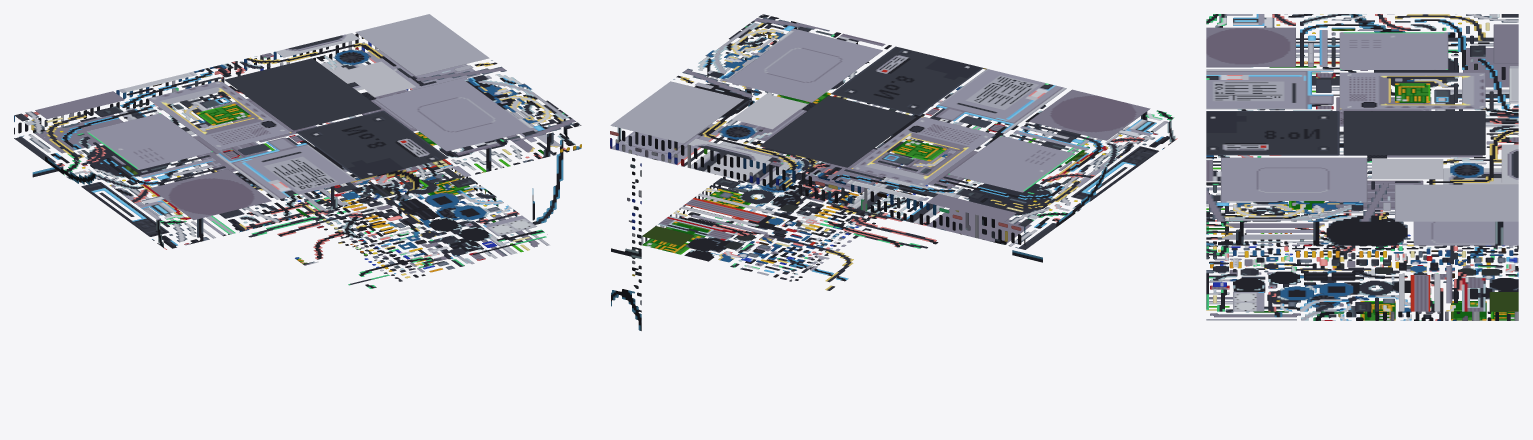
Rendered from coffeetable.fbx.
The picture shows the model from 3 angles, left to right: view 1: azimuth 30°, elevation 25°; view 2: azimuth 150°, elevation 25°; view 3: azimuth 270°, elevation 25°; orthographic projection. The views are drawn at different scales.
Visible parts, largest first — view 1: Table_Lp; view 2: Table_Lp; view 3: Table_Lp.
Part boxes in pixels (<box>): Table_Lp: <box>14,14,581,288</box>; Table_Lp: <box>610,14,1177,330</box>; Table_Lp: <box>1206,14,1518,320</box>.
Size of the model in its own units: 131 by 60.24 by 83.45.
